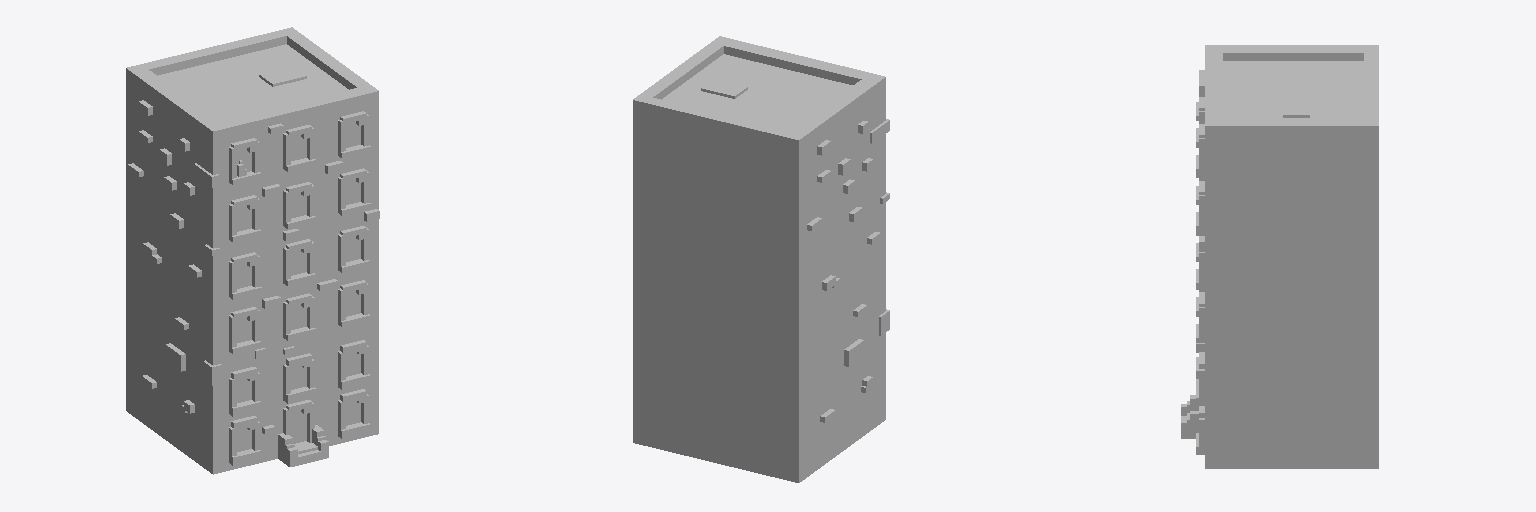
File: map v1.0-5-house.obj
3 renders of one model, left to right at view 1: azimuth 30°, elevation 25°; view 2: azimuth 150°, elevation 25°; view 3: azimuth 270°, elevation 25°, orthographic.
Visible parts, largest first — view 1: house; view 2: house; view 3: house.
Part boxes in pixels (x1,y1,x2,y2): house: (126, 27, 379, 474); house: (633, 36, 889, 482); house: (1181, 45, 1378, 468).
Size of the model in its own units: 6.6 by 12.6 by 6.6.